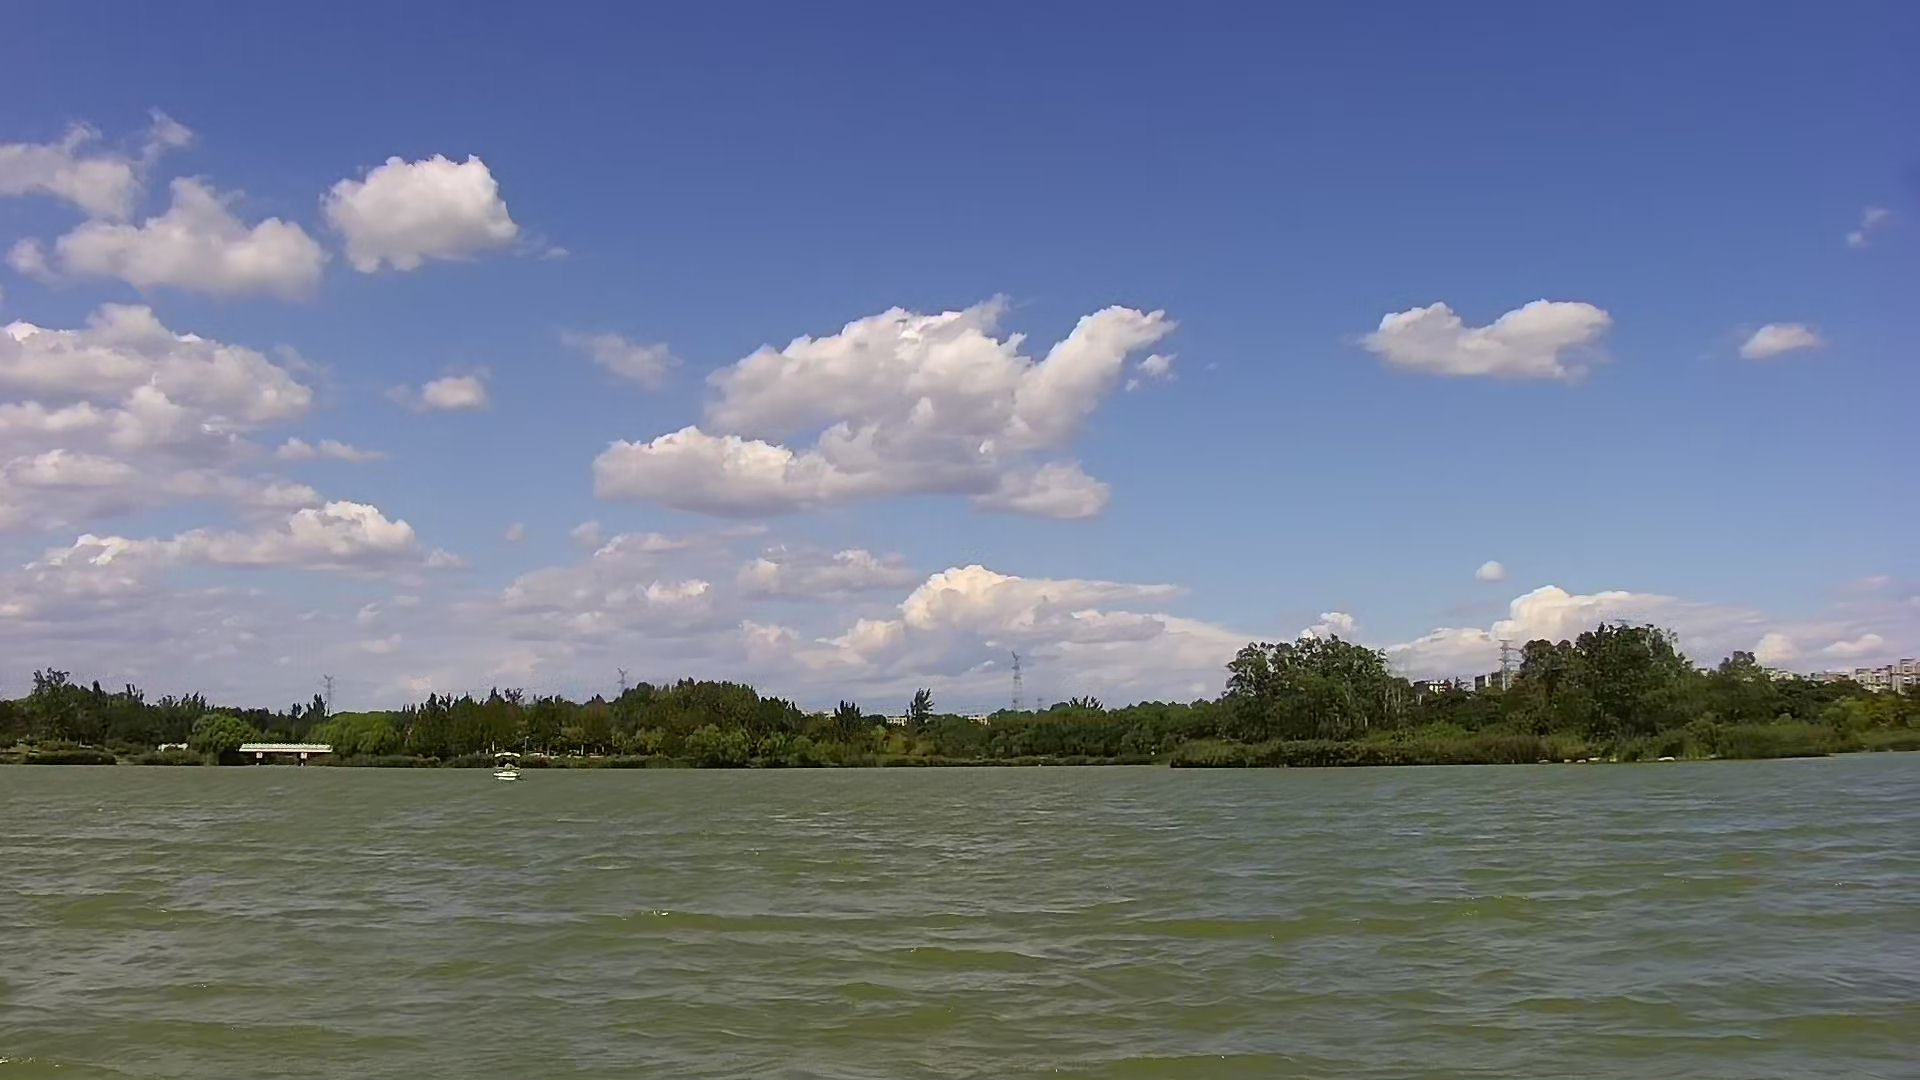boat: (487, 742, 527, 798)
bridge: (229, 732, 339, 767)
